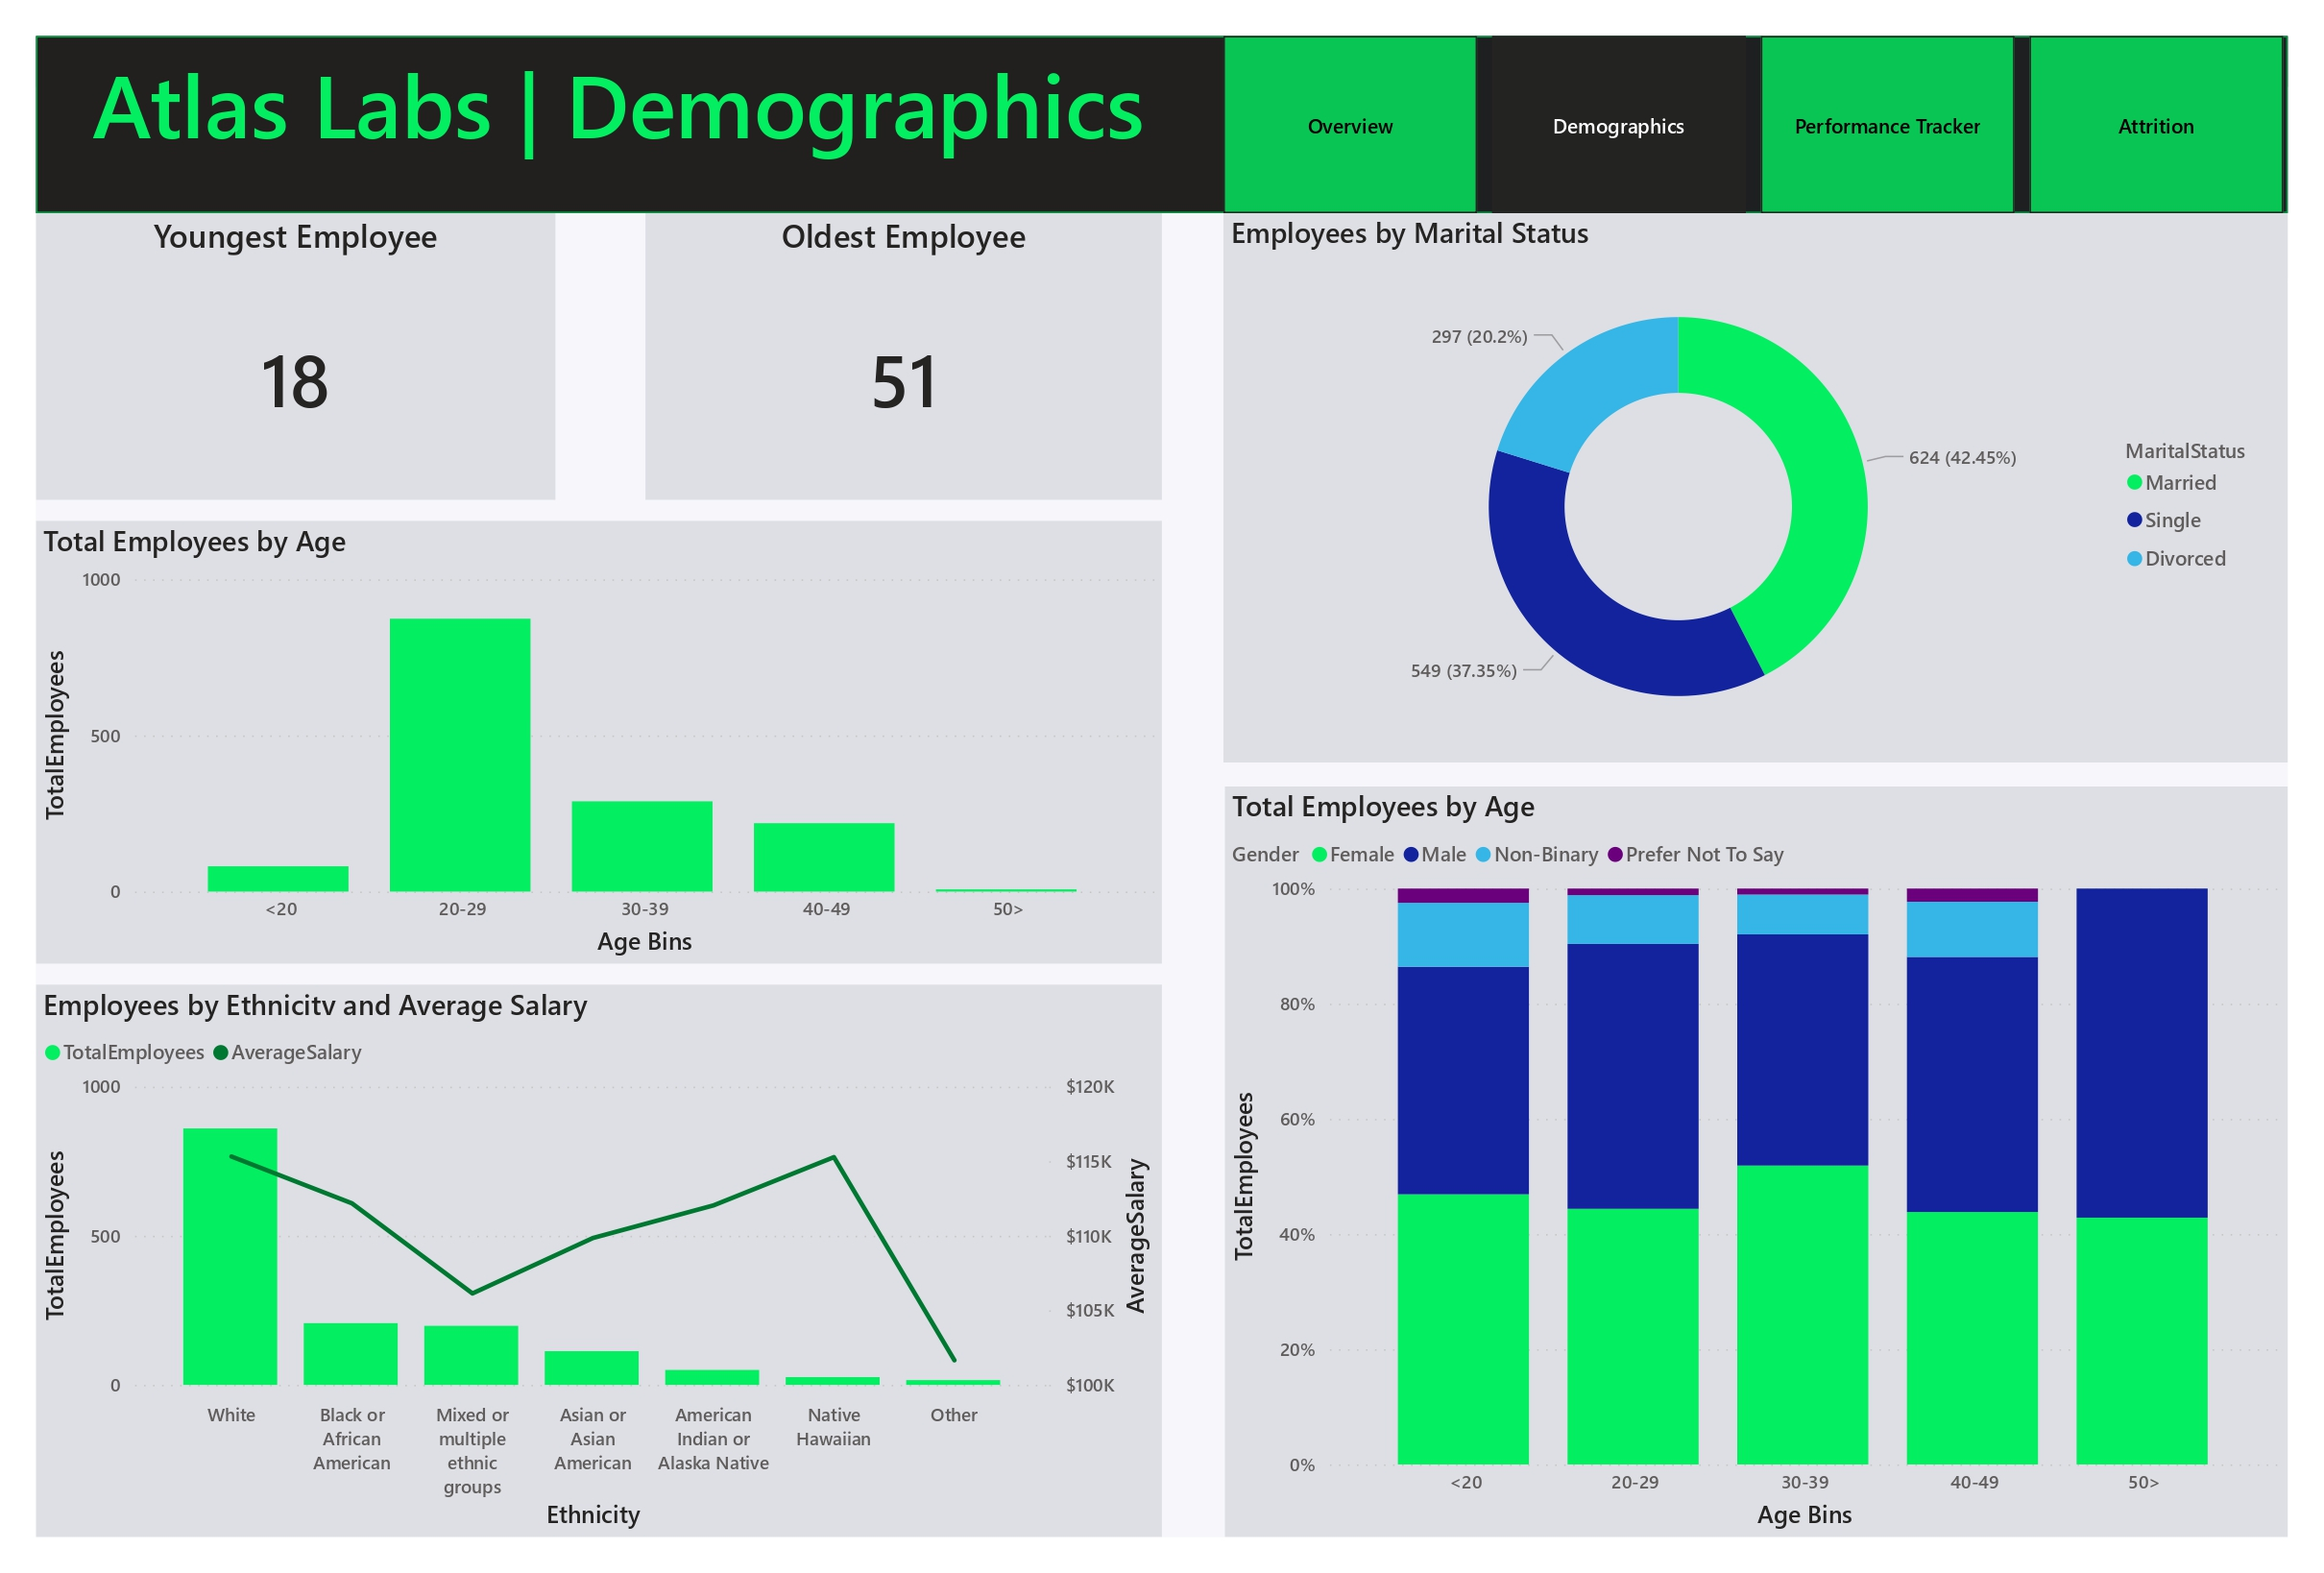

What the dashboard file says about the page in this screenshot:
{"tool":"powerbi","page":{"name":"Demographics","canvas":[1500,1000],"ordinal":1},"visuals":[{"type":"card","title":"Youngest Employee","fields":{"Values":["Min(DIMEmployee.Age)"]},"box":[0,118.1,346.5,190.9],"z":0},{"type":"card","title":"Oldest Employee","fields":{"Values":["Max(DIMEmployee.Age)"]},"box":[405.5,118.1,344.5,190.9],"z":1000},{"type":"clusteredColumnChart","title":"Total Employees by Age","fields":{"Category":["DIMEmployee.Age Bins"],"Y":["_Measures.TotalEmployees"]},"box":[0,322.8,750,295.3],"z":2000},{"type":"hundredPercentStackedColumnChart","title":"Total Employees by Age","fields":{"Category":["DIMEmployee.Age Bins"],"Y":["_Measures.TotalEmployees"],"Series":["DIMEmployee.Gender"]},"box":[792,500,708,500],"z":3000},{"type":"donutChart","title":"Employees by Marital Status","fields":{"Category":["DIMEmployee.MaritalStatus"],"Y":["CountNonNull(DIMEmployee.Attrition)"]},"box":[791.3,118.1,708.7,366.1],"z":4000},{"type":"lineStackedColumnComboChart","title":"Employees by Ethnicitv and Average Salary","fields":{"Y2":["_Measures.AverageSalary"],"Y":["_Measures.TotalEmployees"],"Category":["DIMEmployee.Ethnicity"]},"box":[0,631.9,750,368.1],"z":5000},{"type":"shape","box":[0,0,1500,118.1],"z":6000},{"type":"textbox","box":[0,0,1500,118.1],"z":7000},{"type":"pageNavigator","box":[791.3,0,708.7,118.1],"z":8000}]}

Visuals, with their boxes on the page's 1500x1000 design canvas (x1, y1, x2, y2). These are canvas units, not pixel positions in the 2324x1573 screenshot, which may show the page scaled, cropped or inside an application window:
"Youngest Employee" card: box=[0, 118, 346, 309]
"Oldest Employee" card: box=[406, 118, 750, 309]
"Total Employees by Age" clusteredColumnChart: box=[0, 323, 750, 618]
"Total Employees by Age" hundredPercentStackedColumnChart: box=[792, 500, 1500, 1000]
"Employees by Marital Status" donutChart: box=[791, 118, 1500, 484]
"Employees by Ethnicitv and Average Salary" lineStackedColumnComboChart: box=[0, 632, 750, 1000]
shape: box=[0, 0, 1500, 118]
textbox: box=[0, 0, 1500, 118]
pageNavigator: box=[791, 0, 1500, 118]
